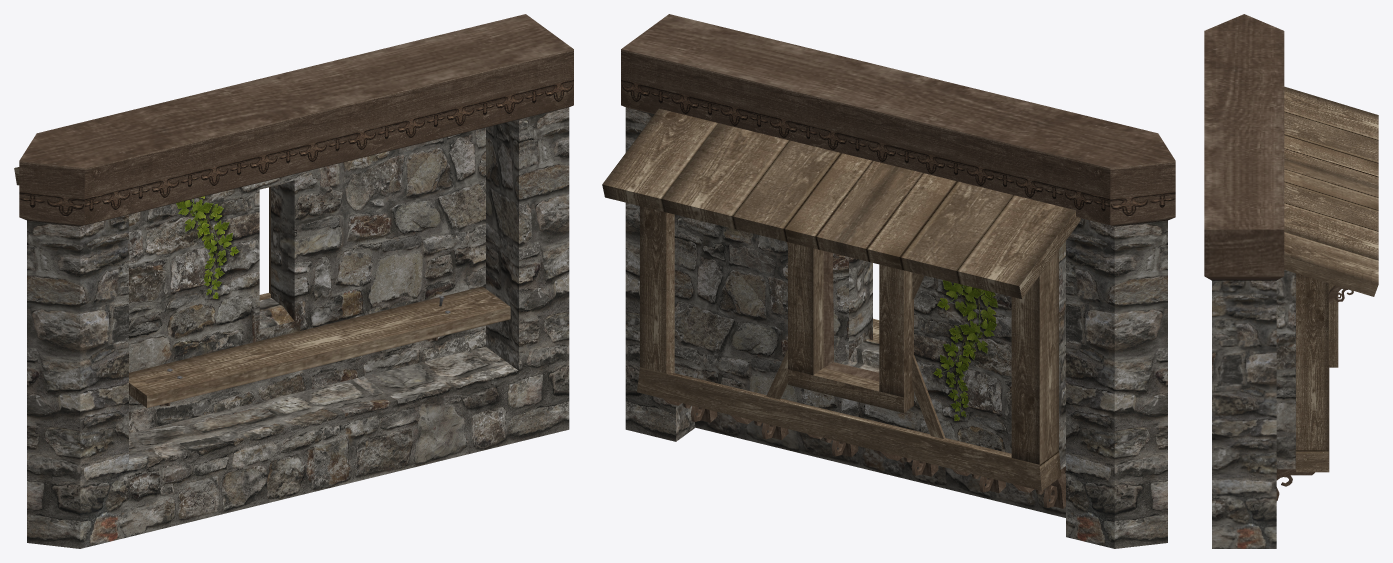
The model's file is House_Stone_Wall_Upper_Oriel1.dae.
3 renders of one model, left to right at view 1: azimuth 30°, elevation 25°; view 2: azimuth 150°, elevation 25°; view 3: azimuth 270°, elevation 25°, orthographic. The views are drawn at different scales.
Visible parts, largest first — view 1: Oriel2; view 2: Oriel2; view 3: Oriel2.
Part boxes in pixels (bbox=[...]): Oriel2: bbox=[14, 14, 573, 548]; Oriel2: bbox=[602, 14, 1175, 548]; Oriel2: bbox=[1204, 14, 1378, 548].
Size of the model in its own units: 4.34 by 3 by 1.48.
1 material, 1 textured.
